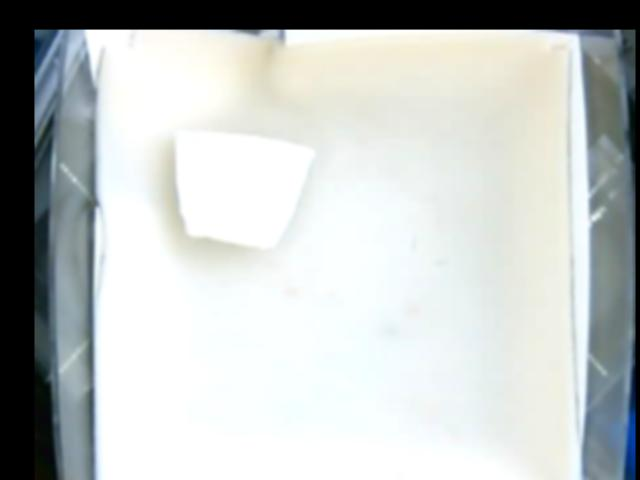Cup: (175, 130, 311, 245)
